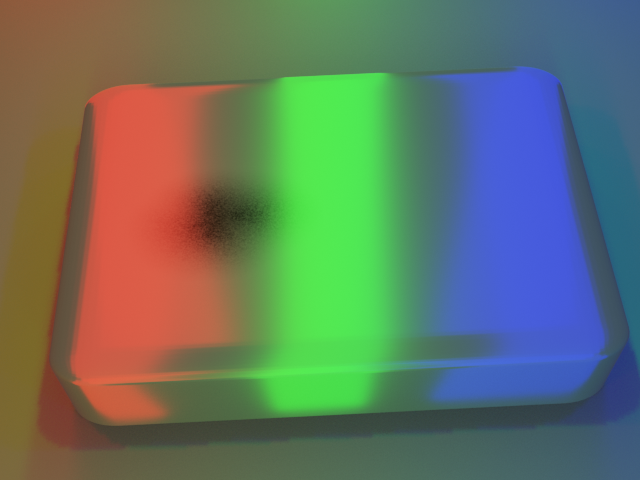stain: (79, 146, 324, 285)
